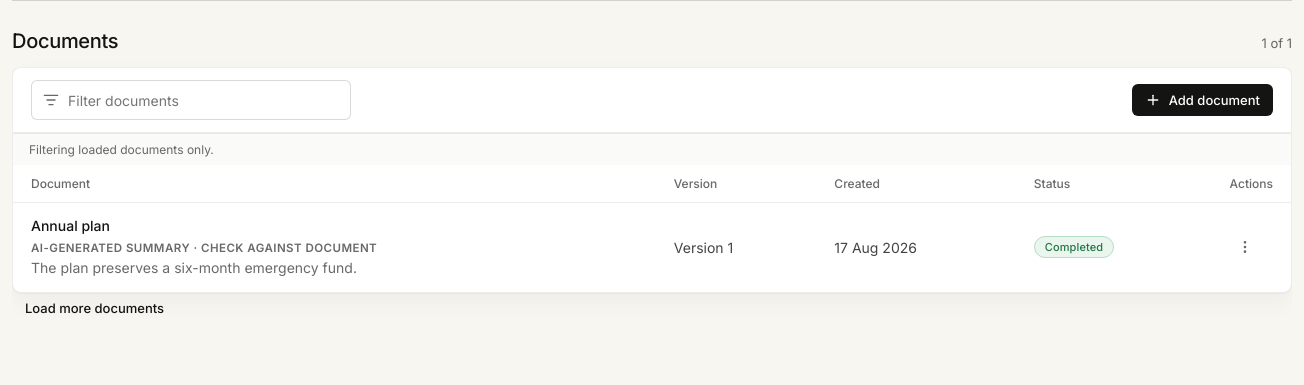
Test: document management › filters, opens, and paginates documents
This screenshot has width=1304, height=385.
Click the button "Annual plan" at (70, 226), box [31,217,110,234]
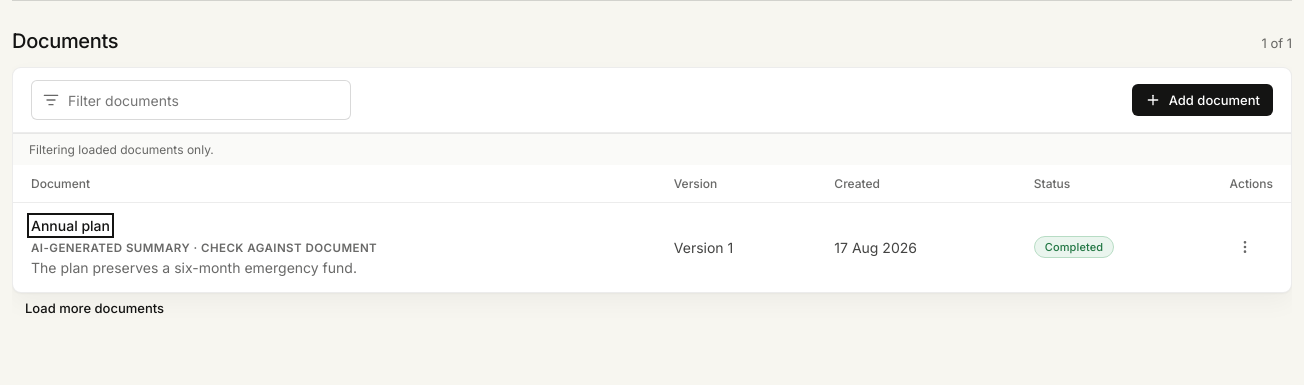
Check: the text "The plan preserves a six-month emergency fund." is shown, box [31,259,357,276]
Type "missing" into the search field labelled "Filter documents" at (191, 100), box [31,80,351,120]
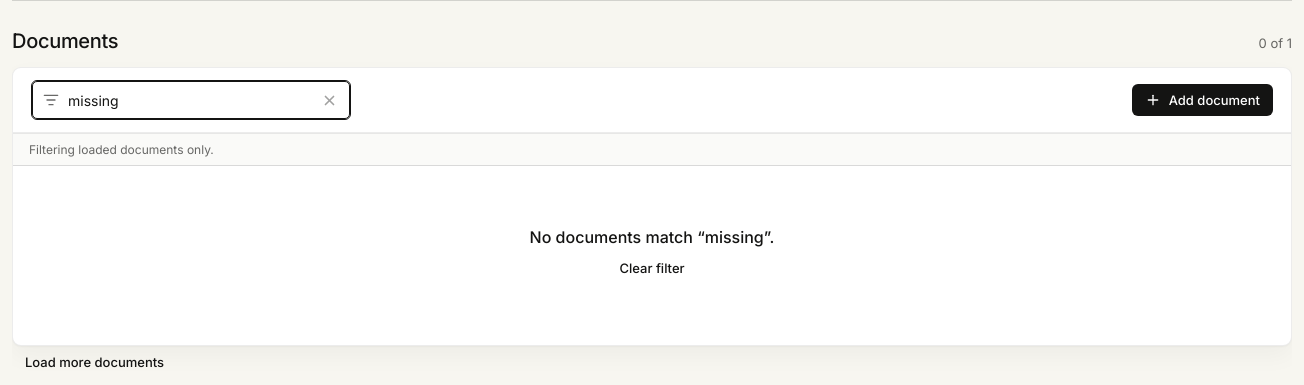
Check: the text "No documents match “missing”." is shown, box [530,226,774,246]
Click the button "Clear filter" at (652, 268), box [606,252,698,284]
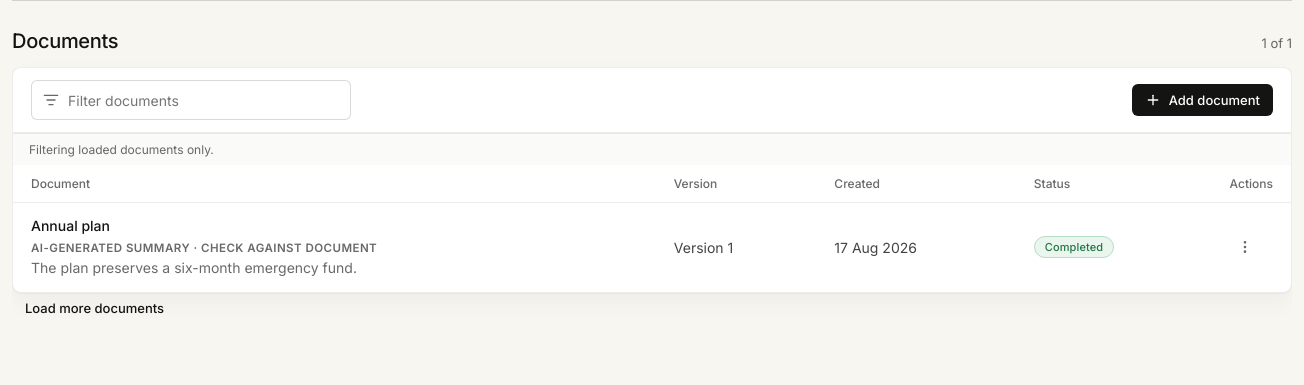
Click the button "Load more documents" at (94, 309), box [12,293,177,325]
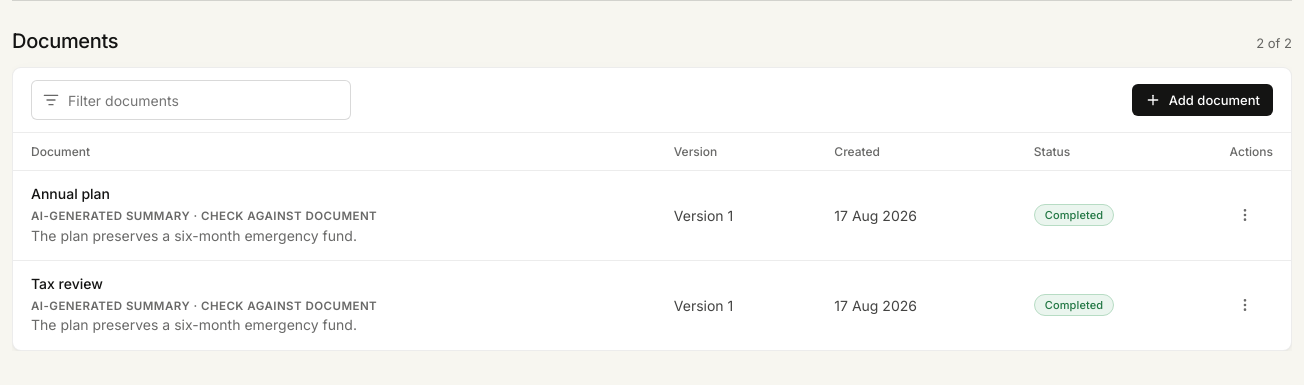
Check: the button "Tax review" is shown, box [31,275,103,292]
